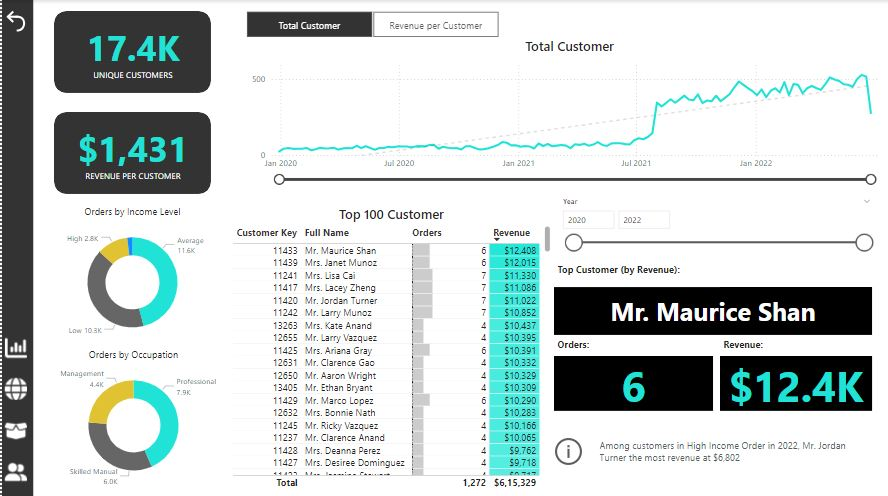

What the dashboard file says about the page in this screenshot:
{"tool":"powerbi","page":{"name":"Customer Detail","canvas":[1280,720],"ordinal":3},"visuals":[{"type":"shape","box":[74.9,161.3,226.1,118.1],"z":0},{"type":"card","fields":{"Values":["Measure Table.Average Revenue per Customer"]},"box":[60.5,145.4,256.3,149.8],"z":1000},{"type":"shape","box":[74.9,15.8,226.1,118.1],"z":2000},{"type":"card","fields":{"Values":["Measure Table.Total Customer"]},"box":[60.5,0,256.3,149.8],"z":3000},{"type":"shape","title":"Left Nav Background","box":[0,0,45,720],"z":4000},{"type":"lineChart","fields":{"Y":["Measure Table.Total Customer"],"Category":["Calendar Lookup.Date Hierarchy.Start of Year","Calendar Lookup.Date Hierarchy.Start of Month","Calendar Lookup.Date Hierarchy.Start of Week"]},"box":[354.2,53.3,925.9,216],"z":5000},{"type":"donutChart","title":"Orders by Income Level","fields":{"Category":["Customer Lookup.Income Level"],"Y":["Measure Table.Total Orders"]},"box":[60.5,295.2,254.9,205.9],"z":6000},{"type":"donutChart","title":"Orders by Occupation","fields":{"Y":["Measure Table.Total Orders"],"Category":["Customer Lookup.Occupation"]},"box":[61.9,501.1,254.9,205.9],"z":7000},{"type":"tableEx","title":"Top 100 Customer","fields":{"Values":["Customer Lookup.CustomerKey","Customer Lookup.Full Name","Measure Table.Total Orders","Measure Table.Total Revenue"]},"box":[326.9,295.2,468,411.8],"z":8000},{"type":"card","fields":{"Values":["Customer Lookup.Full Name (Customer Detail)"]},"box":[794.9,413.3,457.9,69.1],"z":9000},{"type":"card","fields":{"Values":["Measure Table.Total Revenue (Customer Detail)"]},"box":[1033.9,512.6,218.9,79.2],"z":10000},{"type":"card","fields":{"Values":["Measure Table.Total Orders (Customer Detail)"]},"box":[794.9,512.6,229,79.2],"z":11000},{"type":"textbox","box":[1033.9,482.4,218.9,30.2],"z":12000},{"type":"textbox","box":[794.9,482.4,229,30.2],"z":13000},{"type":"textbox","box":[794.9,374.4,239,38.9],"z":14000},{"type":"slicer","fields":{"Values":["Calendar Lookup.Year"]},"box":[794.9,279.4,468,90.7],"z":15000},{"type":"actionButton","box":[790.6,625,462.2,50.4],"z":16000},{"type":"actionButton","box":[0,10.1,44.6,40.3],"z":17000},{"type":"actionButton","box":[0,481,44.6,40.3],"z":18000},{"type":"actionButton","box":[0,600,44.6,40.3],"z":19000},{"type":"actionButton","box":[0,659.5,44.6,40.3],"z":20000},{"type":"actionButton","box":[0,540.5,44.6,40.3],"z":21000},{"type":"slicer","fields":{"Values":["Customer Metric Selection.Customer Metric Selection"]},"box":[326.9,10.1,411.8,50.4],"z":21501}]}

Visuals, with their boxes on the page's 1280x720 design canvas (x1, y1, x2, y2). These are canvas units, not pixel positions in the 888x496 screenshot, which may show the page scaled, cropped or inside an application window:
shape: (x1=75, y1=161, x2=301, y2=279)
card - Measure Table.Average Revenue per Customer: (x1=60, y1=145, x2=317, y2=295)
shape: (x1=75, y1=16, x2=301, y2=134)
card - Measure Table.Total Customer: (x1=60, y1=0, x2=317, y2=150)
"Left Nav Background" shape: (x1=0, y1=0, x2=45, y2=720)
lineChart - Measure Table.Total Customer x Calendar Lookup.Date Hierarchy.Start of Year: (x1=354, y1=53, x2=1280, y2=269)
"Orders by Income Level" donutChart: (x1=60, y1=295, x2=315, y2=501)
"Orders by Occupation" donutChart: (x1=62, y1=501, x2=317, y2=707)
"Top 100 Customer" tableEx: (x1=327, y1=295, x2=795, y2=707)
card - Customer Lookup.Full Name (Customer Detail): (x1=795, y1=413, x2=1253, y2=482)
card - Measure Table.Total Revenue (Customer Detail): (x1=1034, y1=513, x2=1253, y2=592)
card - Measure Table.Total Orders (Customer Detail): (x1=795, y1=513, x2=1024, y2=592)
textbox: (x1=1034, y1=482, x2=1253, y2=513)
textbox: (x1=795, y1=482, x2=1024, y2=513)
textbox: (x1=795, y1=374, x2=1034, y2=413)
slicer - Calendar Lookup.Year: (x1=795, y1=279, x2=1263, y2=370)
actionButton: (x1=791, y1=625, x2=1253, y2=675)
actionButton: (x1=0, y1=10, x2=45, y2=50)
actionButton: (x1=0, y1=481, x2=45, y2=521)
actionButton: (x1=0, y1=600, x2=45, y2=640)
actionButton: (x1=0, y1=660, x2=45, y2=700)
actionButton: (x1=0, y1=540, x2=45, y2=581)
slicer - Customer Metric Selection.Customer Metric Selection: (x1=327, y1=10, x2=739, y2=60)
